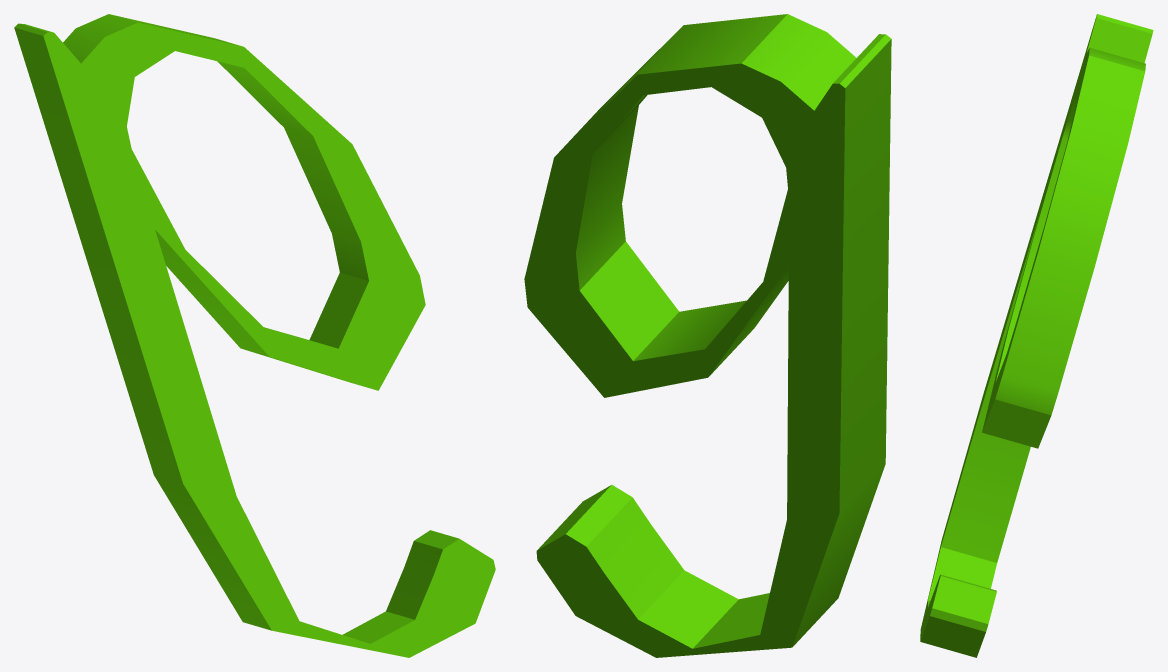
Rendered from ga_formula_B.fbx.
3 views of the same model, side by side, from view 1: azimuth 30°, elevation 25°; view 2: azimuth 150°, elevation 25°; view 3: azimuth 270°, elevation 25° (orthographic). The views are drawn at different scales.
Visible parts, largest first — view 1: ga_formula_B; view 2: ga_formula_B; view 3: ga_formula_B.
Part boxes in pixels (bbox=[...]): ga_formula_B: bbox=[14, 14, 495, 657]; ga_formula_B: bbox=[524, 14, 891, 657]; ga_formula_B: bbox=[920, 14, 1153, 657].
Bounding box in the file's own units: 2.66 × 4.47 × 1.79.
